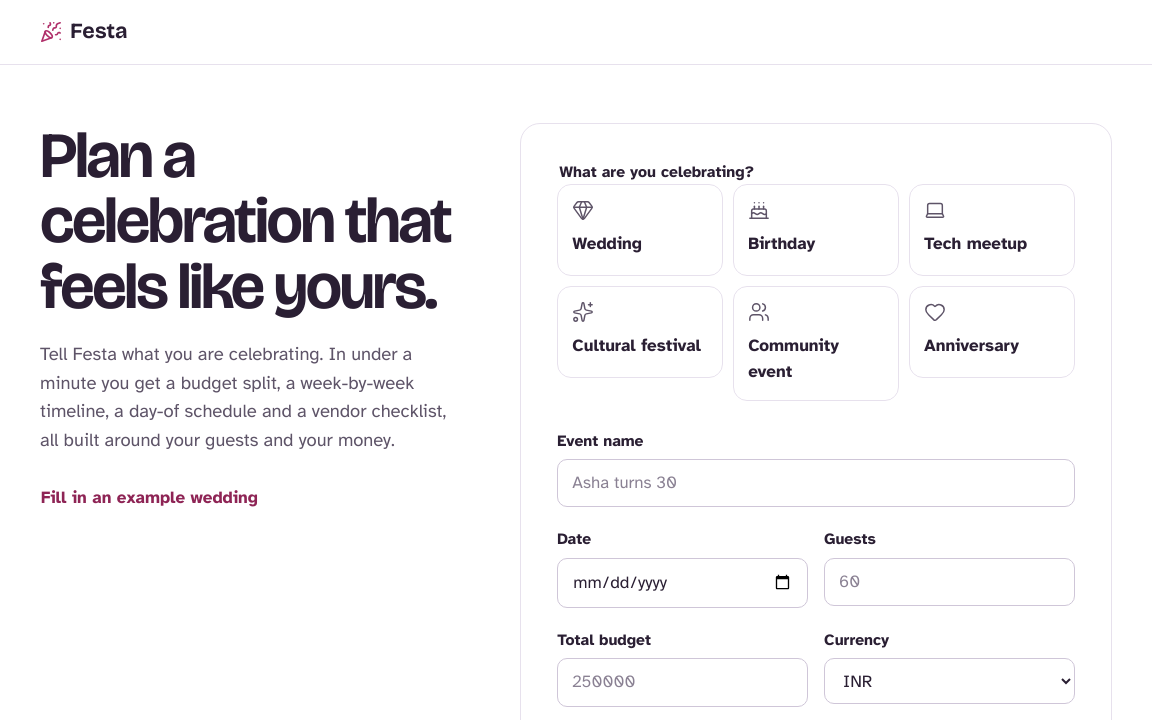
Test case: planner form › fills an example brief that always passes validation
Step 1. Click the button "Fill in an example wedding" → coordinates (149, 498), box [28, 474, 271, 522]
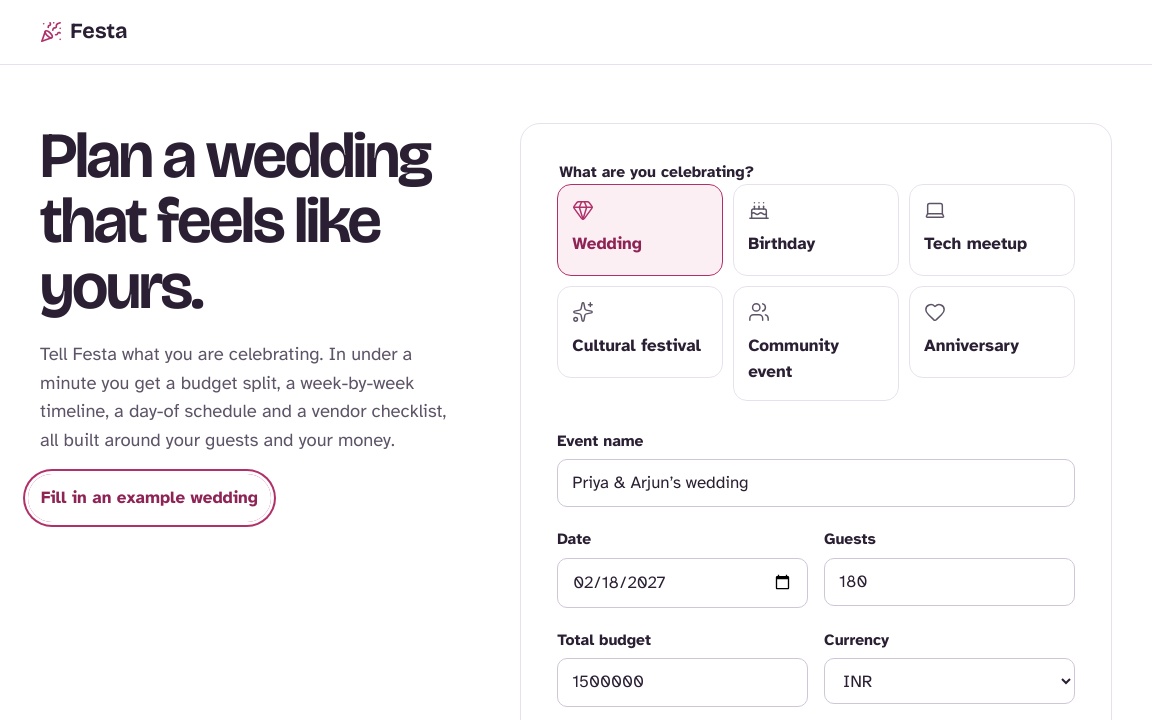
Result: the field labelled "Event name" holds "Priya & Arjun’s wedding" at [557, 459, 1075, 507]
